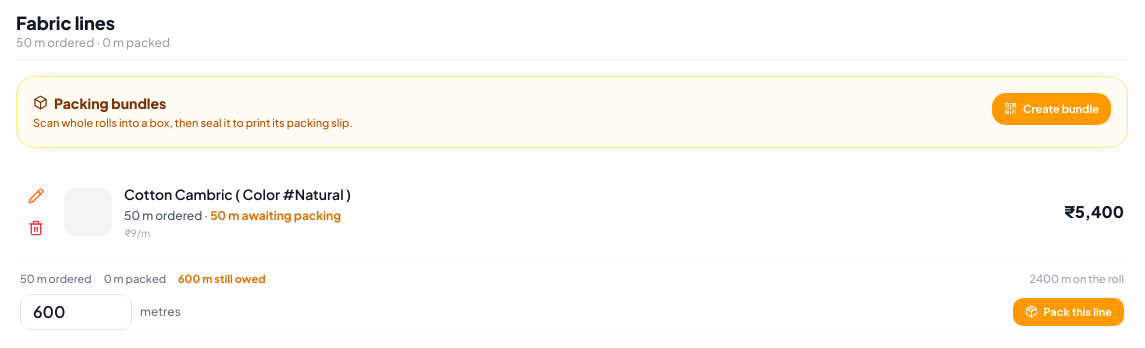
Test: OrderItemsSection over-packed quantities › shows the metres actually packed when a line is packed past its order
Replace the text in the number field named "metres of cotton cambric to pack" with "55" at coordinates (76, 312), box [20, 294, 132, 330]
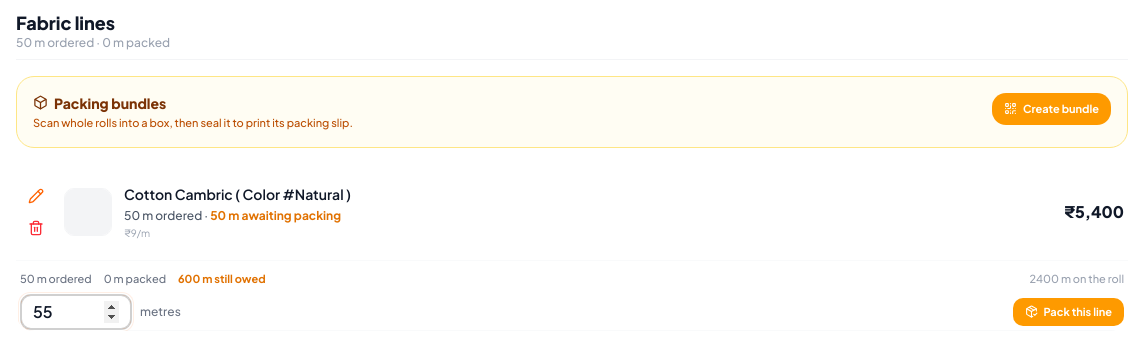
Click the button "Pack this line" at coordinates (1068, 312), box [1013, 298, 1124, 326]
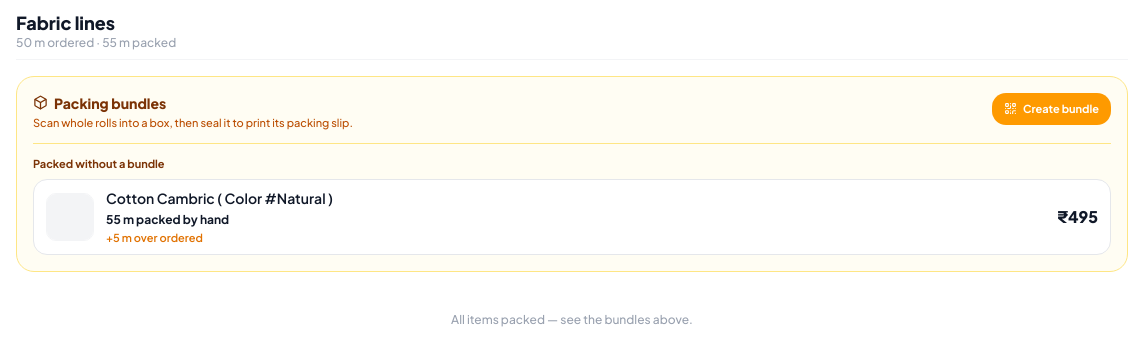
Now the text "55 m packed by hand" is shown, box [106, 212, 229, 226]
Now the text "50 m ordered · 55 m packed" is shown, box [16, 34, 176, 50]
